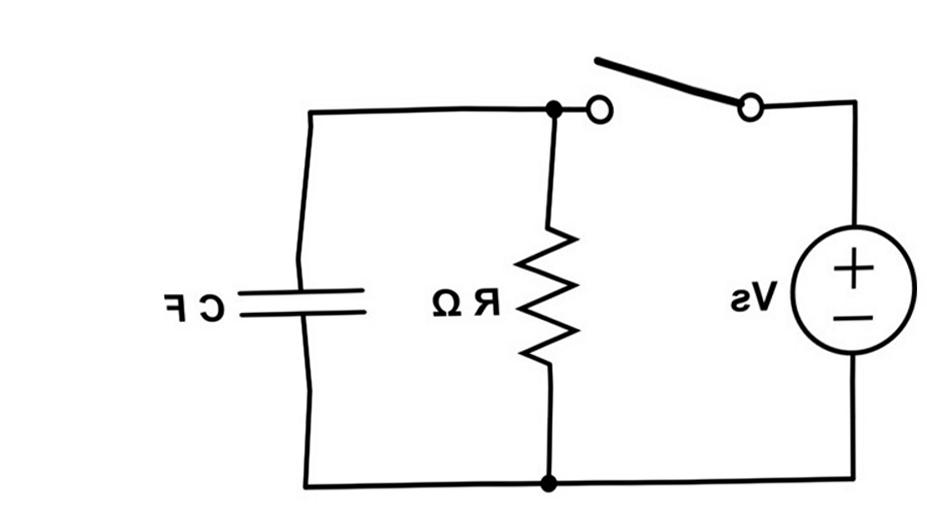Battery: (769, 211, 926, 359)
